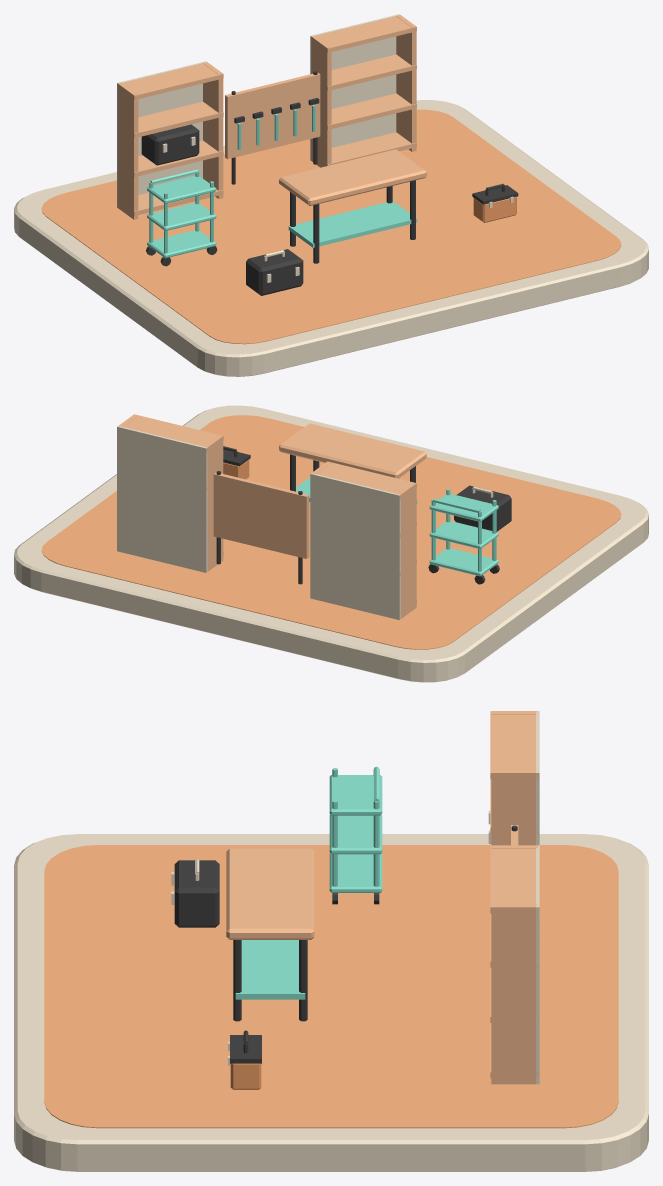
Rendered from room.fbx.
3 views of the same model, one above another, from view 1: azimuth 30°, elevation 25°; view 2: azimuth 150°, elevation 25°; view 3: azimuth 270°, elevation 25° (orthographic). The views are drawn at different scales.
Visible parts, largest first — view 1: COM-02 Floor Surface, COM-01 Rounded Base Direct, Peg board, Worktop, Back.001, Lower shelf, Back, Side, Case, Side.003, Side.001, Side.002 (+13 smaller); view 2: COM-02 Floor Surface, COM-01 Rounded Base Direct, Back.001, Back, Peg board, Worktop, Side, Shelf.003, Shelf.007, Side.002, Case, Tray.001 (+2 smaller); view 3: COM-02 Floor Surface, COM-01 Rounded Base Direct, Worktop, Side.003, Lower shelf, Case, Shelf.003, Shelf.007, Side.001, Tray.002, Tray.001, Tray (+5 smaller).
Part boxes in pixels (x1,y1,x2,y2): COM-02 Floor Surface: (41,109,621,344); COM-01 Rounded Base Direct: (14,100,648,376); Peg board: (225,72,320,159); Worktop: (279,149,426,205); Back.001: (310,14,399,160); Lower shelf: (288,201,417,247); Back: (117,61,206,207); Side: (118,82,138,219); Case: (246,249,303,295); Side.003: (396,15,416,151); Side.001: (203,62,223,198); Side.002: (311,36,331,167); COM-02 Floor Surface: (41,415,621,649); COM-01 Rounded Base Direct: (14,405,648,682); Back.001: (117,426,207,572); Back: (310,473,400,619); Peg board: (213,472,309,558); Worktop: (279,423,426,478); Side: (396,482,416,618); Shelf.003: (316,461,416,499); Shelf.007: (123,414,223,452); Side.002: (203,435,223,571); Case: (454,485,511,531); Tray.001: (429,521,498,549); COM-02 Floor Surface: (44,845,618,1128); COM-01 Rounded Base Direct: (14,834,648,1171); Worktop: (226,848,314,939); Side.003: (491,904,537,1084); Lower shelf: (235,940,305,999); Case: (174,860,219,927); Shelf.003: (490,711,538,779); Shelf.007: (490,845,538,913); Side.001: (491,770,535,845); Tray.002: (329,775,382,815); Tray.001: (329,814,382,854); Tray: (329,853,382,892).
Bounding box in the file's own units: 600 × 190 × 520.
